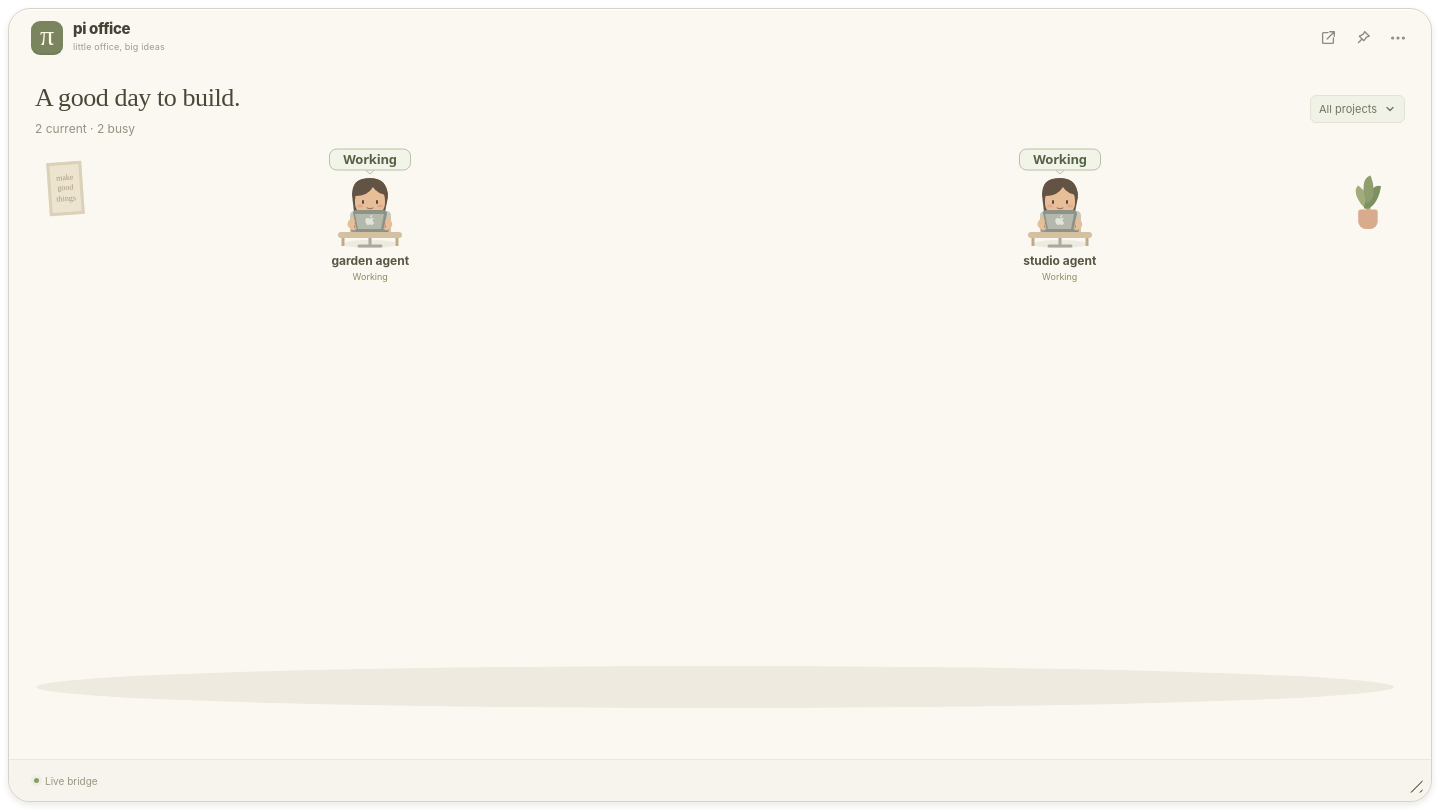
Test: companion dropdown integration › clears a failed-action overlay before opening projects with pointer
Expected: the button with aria-label "Filter by project" is shown, [1310,95,1405,123]
Click the button named "Always on top" at (1362, 38), box [1348,23,1377,52]
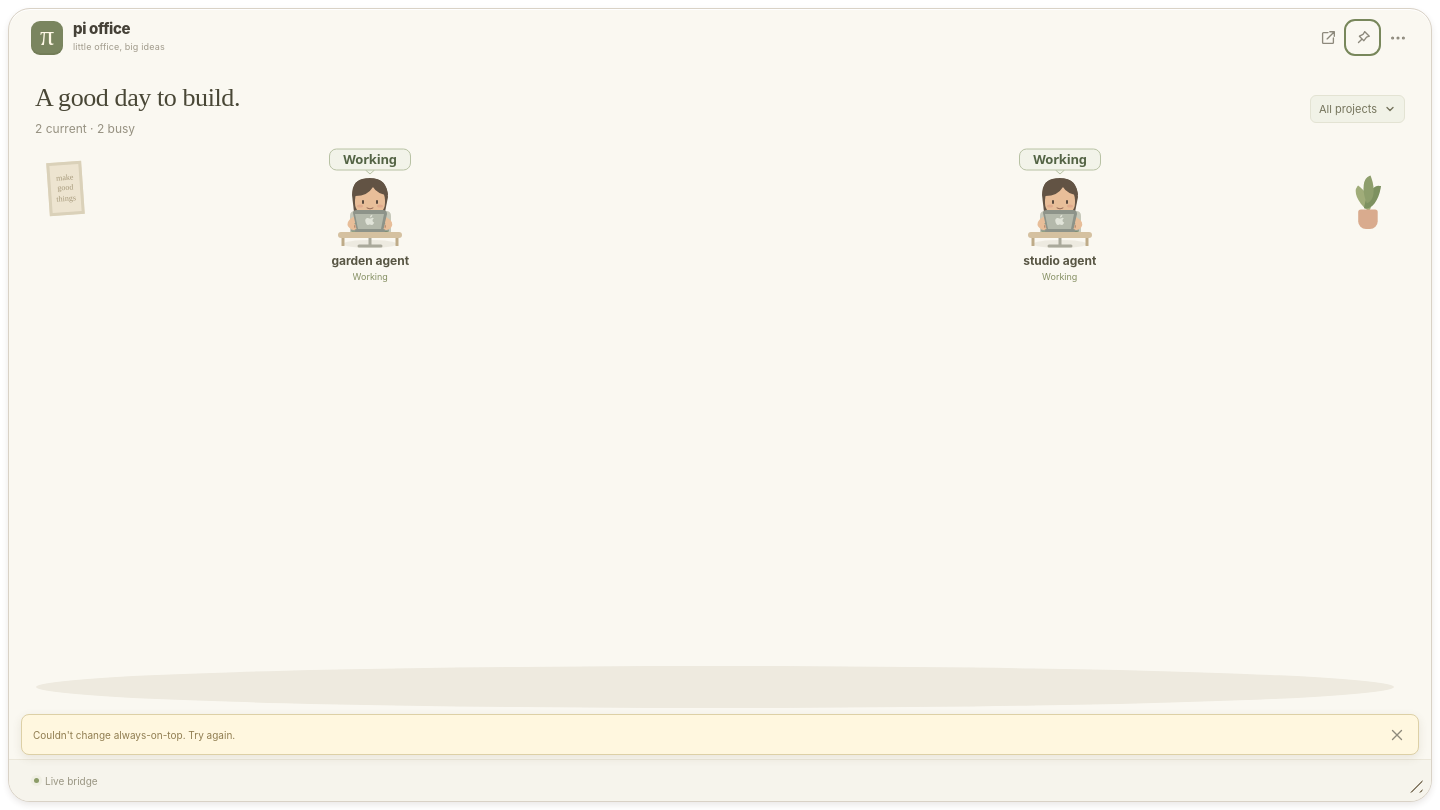
Expected: the text "Couldn't change always-on-top. Try again." is shown, [33,728,235,740]
Click the button with aria-label "Filter by project" at (1358, 109), box [1310,95,1405,123]
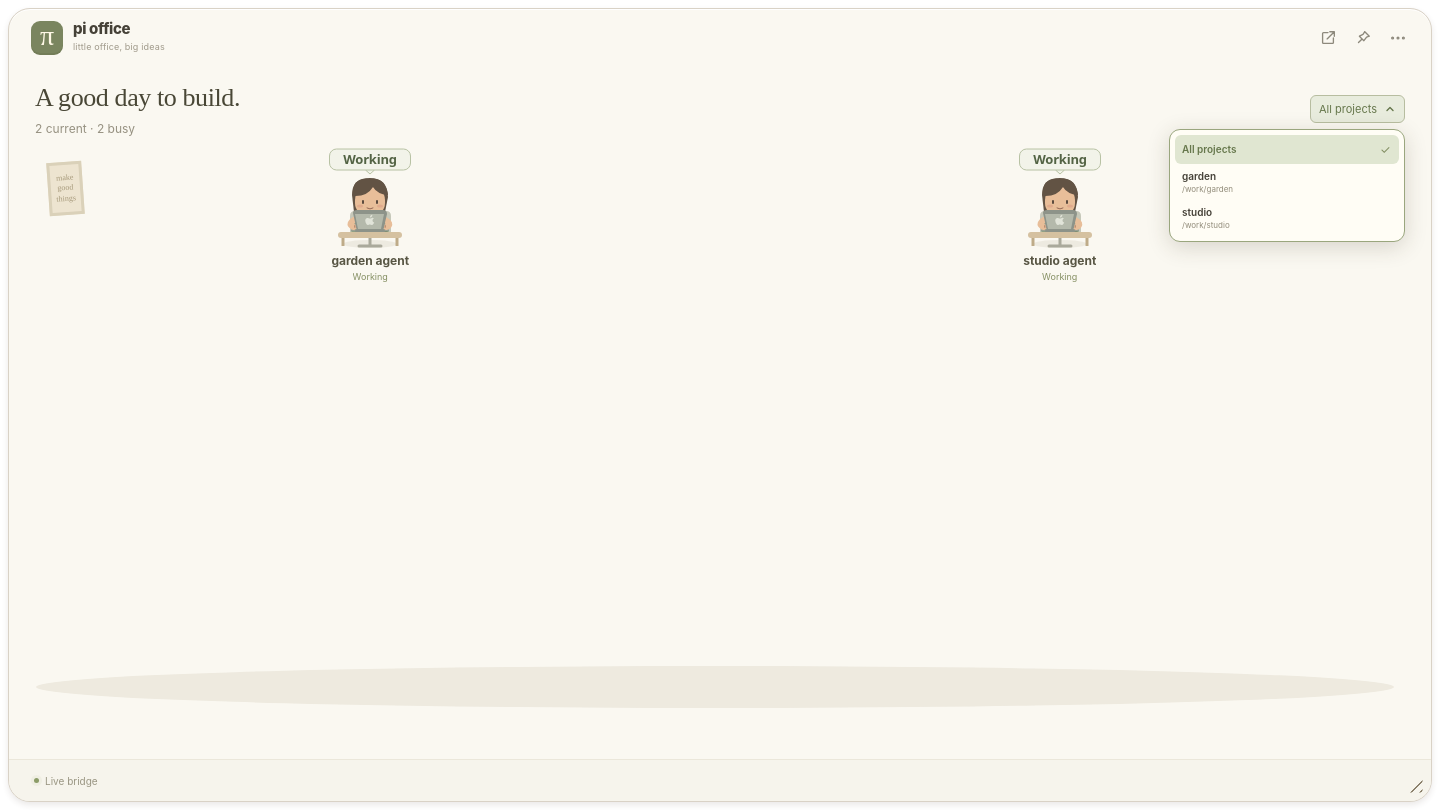
Expected: the button with class "notice" is gone
Click the option "studio /work/studio" at (1206, 218), box [1182,206,1230,230]
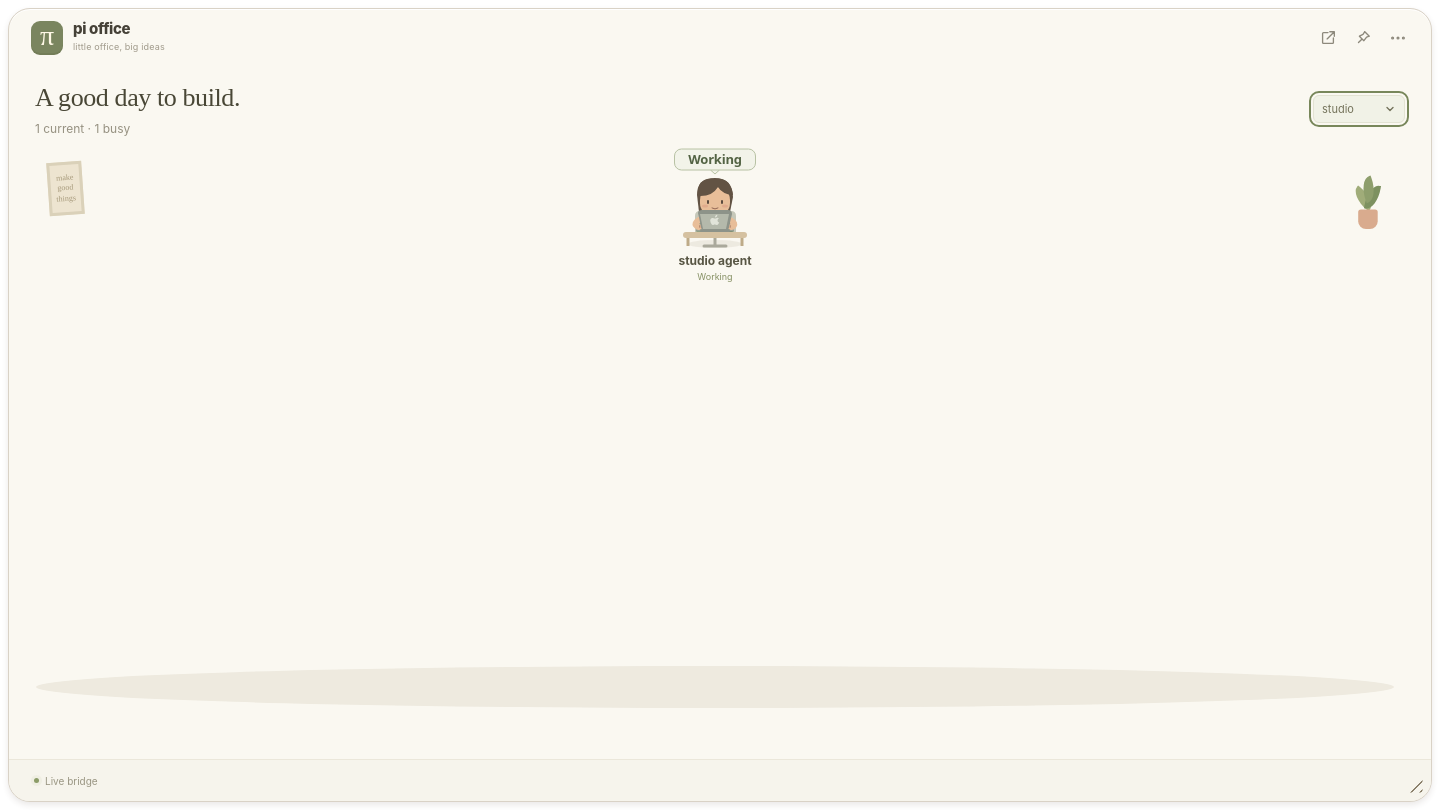
Expected: the button with aria-label "Filter by project" reads "studio", [1313,95,1405,123]
Expected: the list is gone
